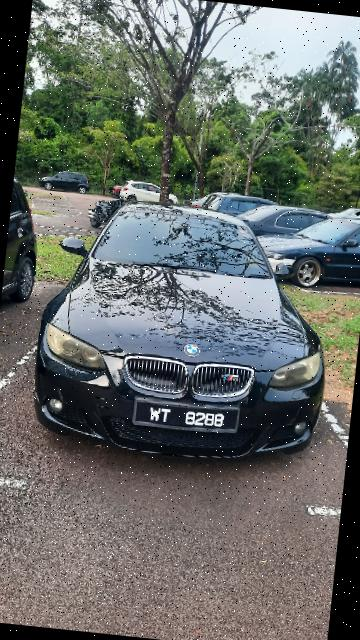License_Plate: (127, 394, 243, 441)
car: (32, 183, 344, 481)
